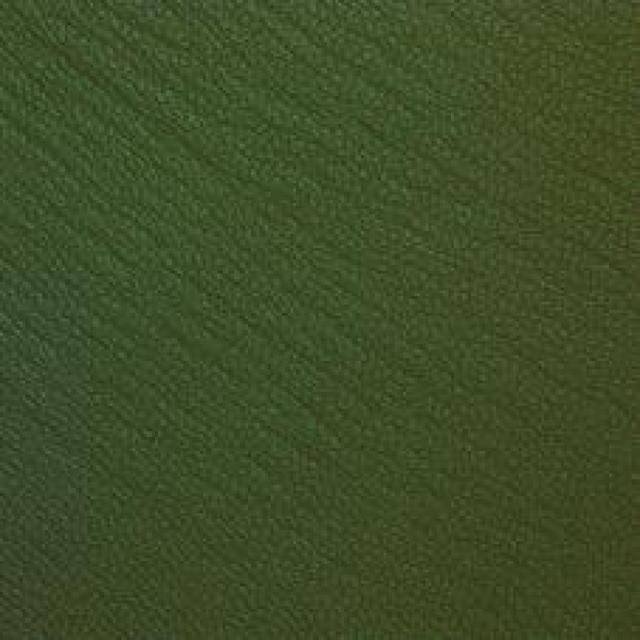Growth Marks: (90, 229, 367, 427), (83, 21, 436, 150)
